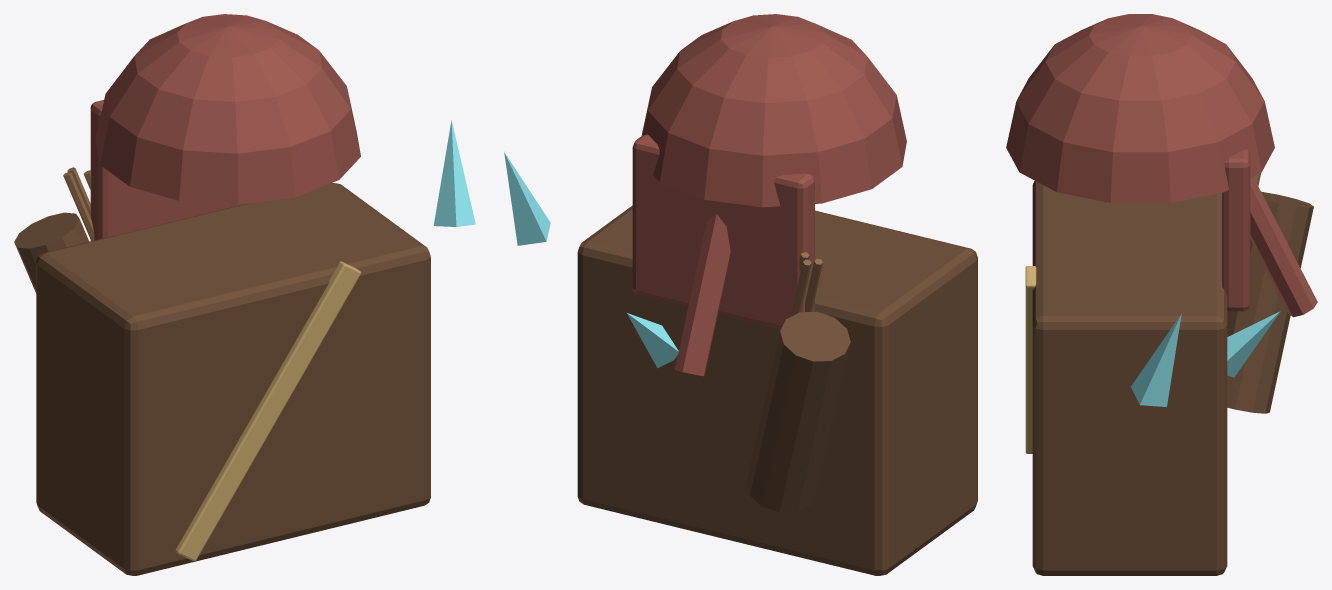
File: Arbaletrier_Equipement.fbx
The picture shows the model from 3 angles, left to right: view 1: azimuth 30°, elevation 25°; view 2: azimuth 150°, elevation 25°; view 3: azimuth 270°, elevation 25°; orthographic projection.
Parts seen in each view (by area): view 1: UpperTorso__Pourpoint__Cuir.001, Head__Capuche__Tissu.001, UpperTorso__Sangle__Laiton.001, Head__Pan__Tissu.001, UpperTorso__Carquois__Cuir.001, LeftUpperArm__Eclat1__Noyau.001, UpperTorso__Carreau2__Bois.001; view 2: UpperTorso__Pourpoint__Cuir.001, Head__Capuche__Tissu.001, Head__Pan__Tissu.001, UpperTorso__Carquois__Cuir.001, Head__Queue__Tissu.001, LeftUpperArm__Eclat1__Noyau.001, UpperTorso__Eclat2__Noyau.003; view 3: UpperTorso__Pourpoint__Cuir.001, Head__Capuche__Tissu.001, UpperTorso__Carquois__Cuir.001, Head__Pan__Tissu.001, Head__Queue__Tissu.001, LeftUpperArm__Eclat1__Noyau.001, UpperTorso__Sangle__Laiton.001, UpperTorso__Eclat2__Noyau.003.
Boxes of the visible parts, bbox=[...] form: UpperTorso__Pourpoint__Cuir.001: bbox=[36, 183, 430, 575]; Head__Capuche__Tissu.001: bbox=[95, 14, 360, 204]; UpperTorso__Sangle__Laiton.001: bbox=[175, 261, 361, 561]; Head__Pan__Tissu.001: bbox=[90, 100, 245, 240]; UpperTorso__Carquois__Cuir.001: bbox=[14, 212, 89, 293]; LeftUpperArm__Eclat1__Noyau.001: bbox=[433, 120, 475, 226]; UpperTorso__Carreau2__Bois.001: bbox=[63, 172, 94, 241]; UpperTorso__Pourpoint__Cuir.001: bbox=[577, 205, 977, 575]; Head__Capuche__Tissu.001: bbox=[641, 14, 906, 207]; Head__Pan__Tissu.001: bbox=[632, 134, 814, 329]; UpperTorso__Carquois__Cuir.001: bbox=[746, 311, 850, 512]; Head__Queue__Tissu.001: bbox=[675, 214, 730, 376]; LeftUpperArm__Eclat1__Noyau.001: bbox=[504, 152, 550, 245]; UpperTorso__Eclat2__Noyau.003: bbox=[627, 313, 678, 368]; UpperTorso__Pourpoint__Cuir.001: bbox=[1032, 181, 1227, 575]; Head__Capuche__Tissu.001: bbox=[1006, 14, 1274, 203]; UpperTorso__Carquois__Cuir.001: bbox=[1227, 191, 1313, 413]; Head__Pan__Tissu.001: bbox=[1222, 149, 1250, 311]; Head__Queue__Tissu.001: bbox=[1250, 177, 1317, 317]; LeftUpperArm__Eclat1__Noyau.001: bbox=[1131, 314, 1181, 406]; UpperTorso__Sangle__Laiton.001: bbox=[1025, 266, 1036, 453]; UpperTorso__Eclat2__Noyau.003: bbox=[1227, 311, 1280, 377].
Size of the model in its own units: 262 by 299 by 176.
